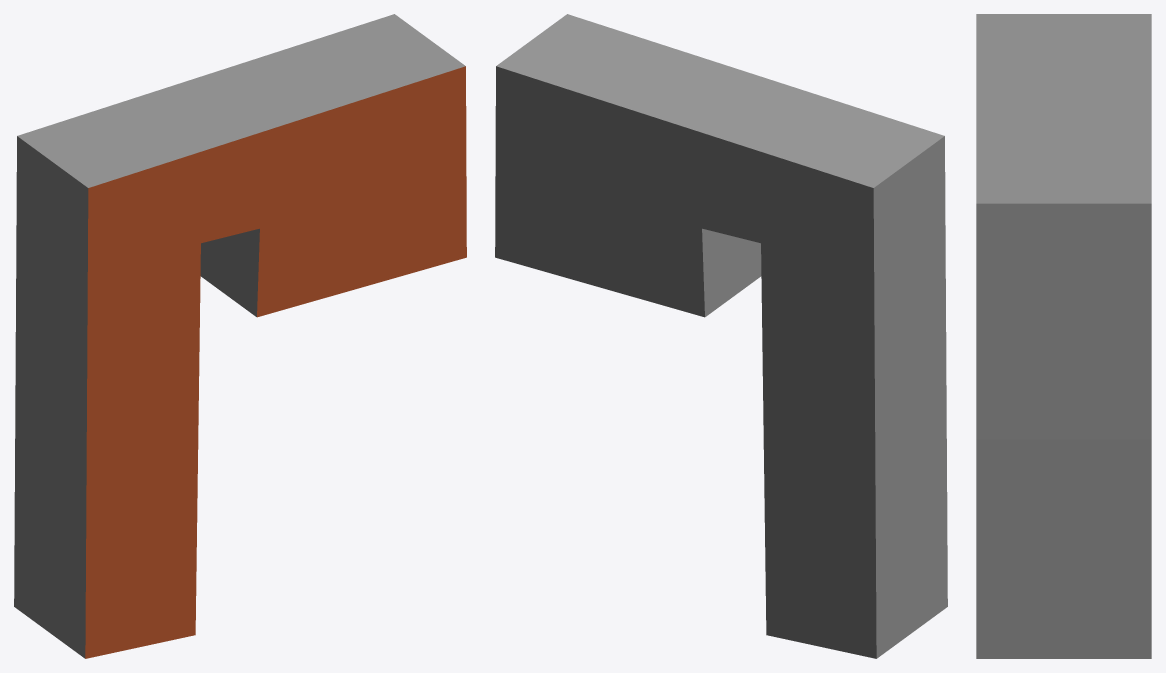
File: construction_7156_assumed_A_Ruinas_h6m.obj
The picture shows the model from 3 angles, left to right: view 1: azimuth 30°, elevation 25°; view 2: azimuth 150°, elevation 25°; view 3: azimuth 270°, elevation 25°; orthographic projection. The views are drawn at different scales.
Parts seen in each view (by area): view 1: construction_7156_assumed_A_Ruinas; view 2: construction_7156_assumed_A_Ruinas; view 3: construction_7156_assumed_A_Ruinas.
Part boxes in pixels (<box>): construction_7156_assumed_A_Ruinas: <box>14,14,466,658</box>; construction_7156_assumed_A_Ruinas: <box>495,14,947,658</box>; construction_7156_assumed_A_Ruinas: <box>976,14,1151,658</box>.
Bounding box in the file's own units: 18.53 × 23.35 × 6.
